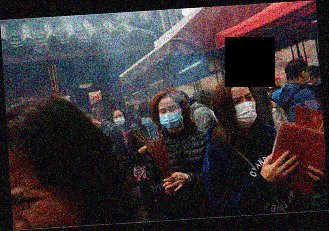with_mask: (233, 91, 259, 129), (158, 104, 184, 132), (112, 112, 126, 128), (141, 115, 155, 128)
